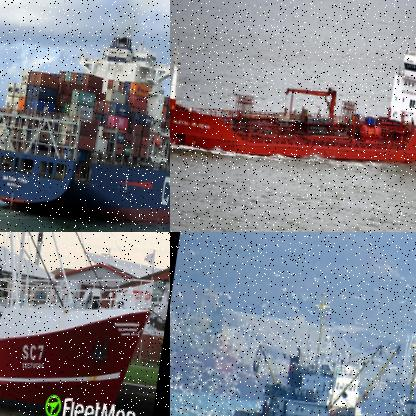Fishing Boat: (0, 232, 169, 415), (230, 282, 415, 415)
Merchant Ship: (170, 0, 415, 191), (0, 5, 169, 231)
